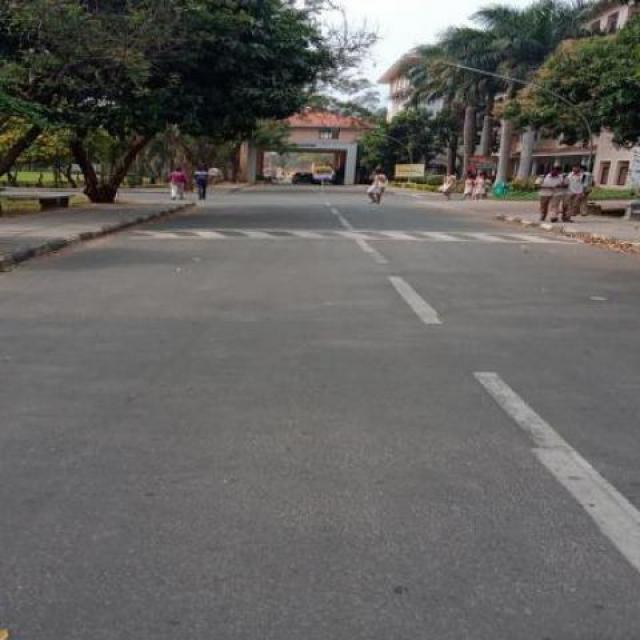Speed Bump: (97, 226, 584, 242)
